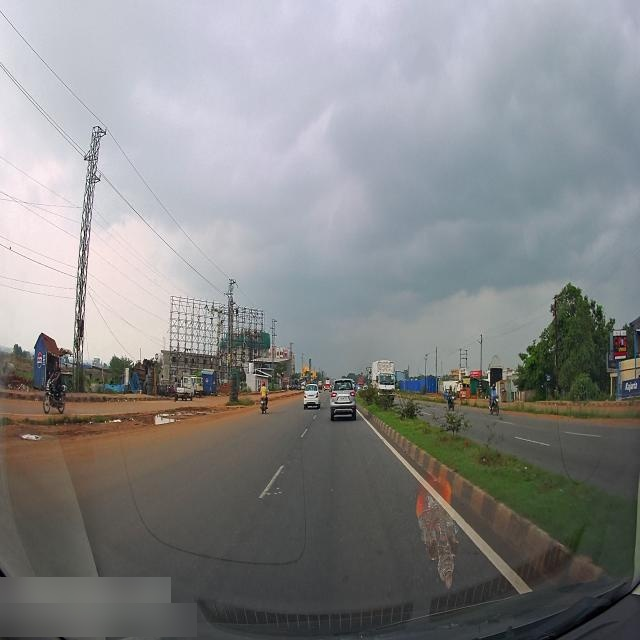pothole: (153, 388, 216, 431), (8, 413, 52, 446), (92, 406, 138, 433)
